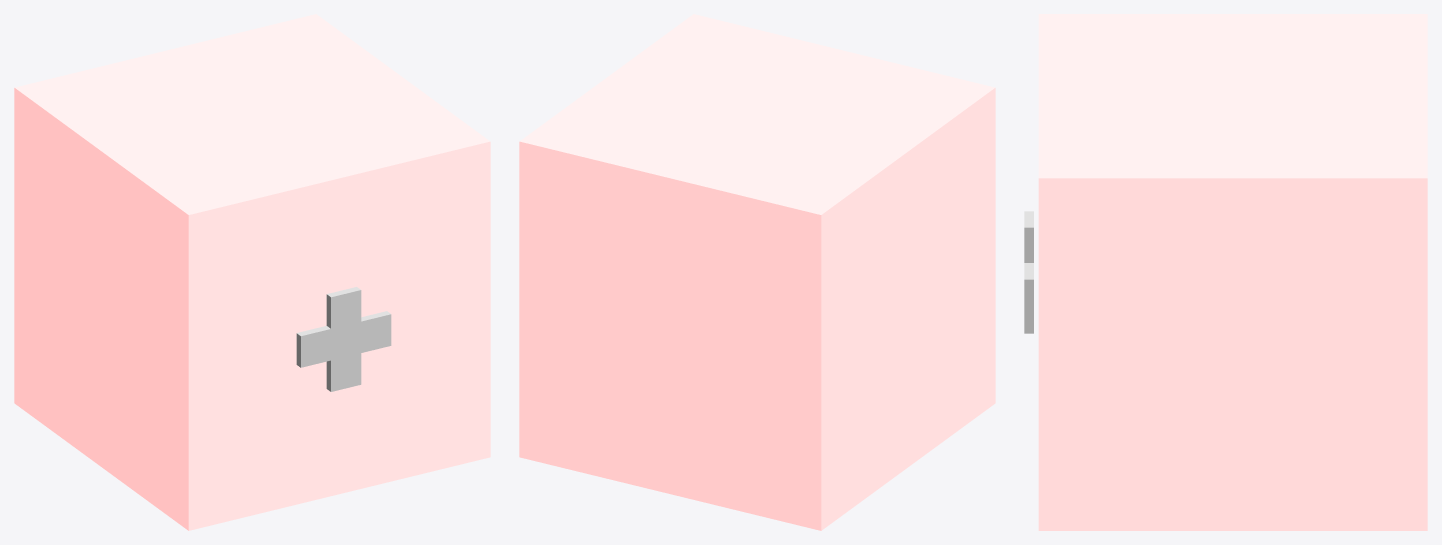
The model's file is SM_HealthPickup.fbx.
3 renders of one model, left to right at view 1: azimuth 30°, elevation 25°; view 2: azimuth 150°, elevation 25°; view 3: azimuth 270°, elevation 25°, orthographic. The views are drawn at different scales.
Visible parts, largest first — view 1: SM_HealthPickup; view 2: SM_HealthPickup; view 3: SM_HealthPickup.
Part boxes in pixels (left/top/right/bottom): SM_HealthPickup: left=14, top=14, right=490, bottom=530; SM_HealthPickup: left=519, top=14, right=995, bottom=530; SM_HealthPickup: left=1024, top=14, right=1427, bottom=530.
Bounding box in the file's own units: 0.4 × 0.415 × 0.4.
